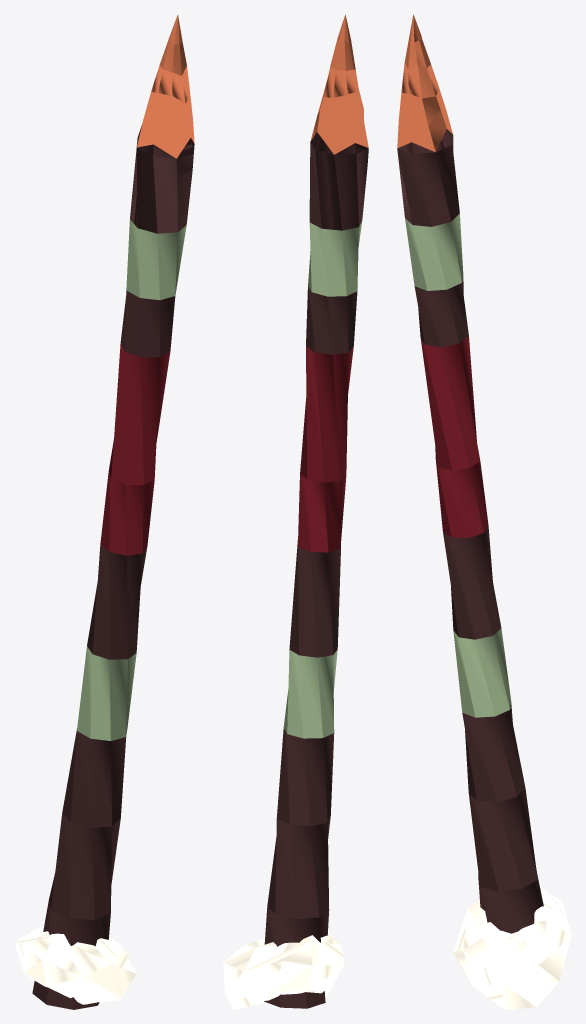
Rendered from HuntsmanWoodspear1.fbx.
3 views of the same model, side by side, from view 1: azimuth 90°, elevation 25°; view 2: azimuth 150°, elevation 25°; view 3: azimuth 270°, elevation 25° (orthographic). The views are drawn at different scales.
Parts seen in each view (by area): view 1: WoodSpear1; view 2: WoodSpear1; view 3: WoodSpear1.
Boxes of the visible parts, <box> form: WoodSpear1: <box>14,14,194,1009</box>; WoodSpear1: <box>223,14,368,1009</box>; WoodSpear1: <box>397,14,571,1009</box>.
Bounding box in the file's own units: 93.16 × 824 × 134.
